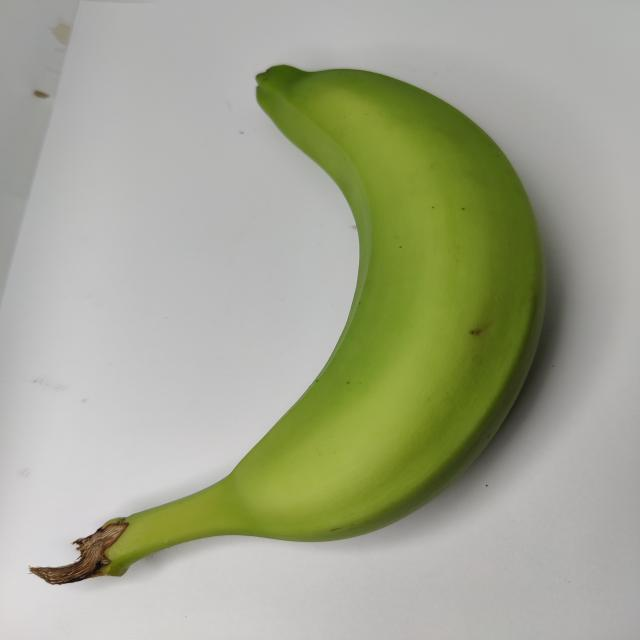raw: (89, 56, 592, 592)
